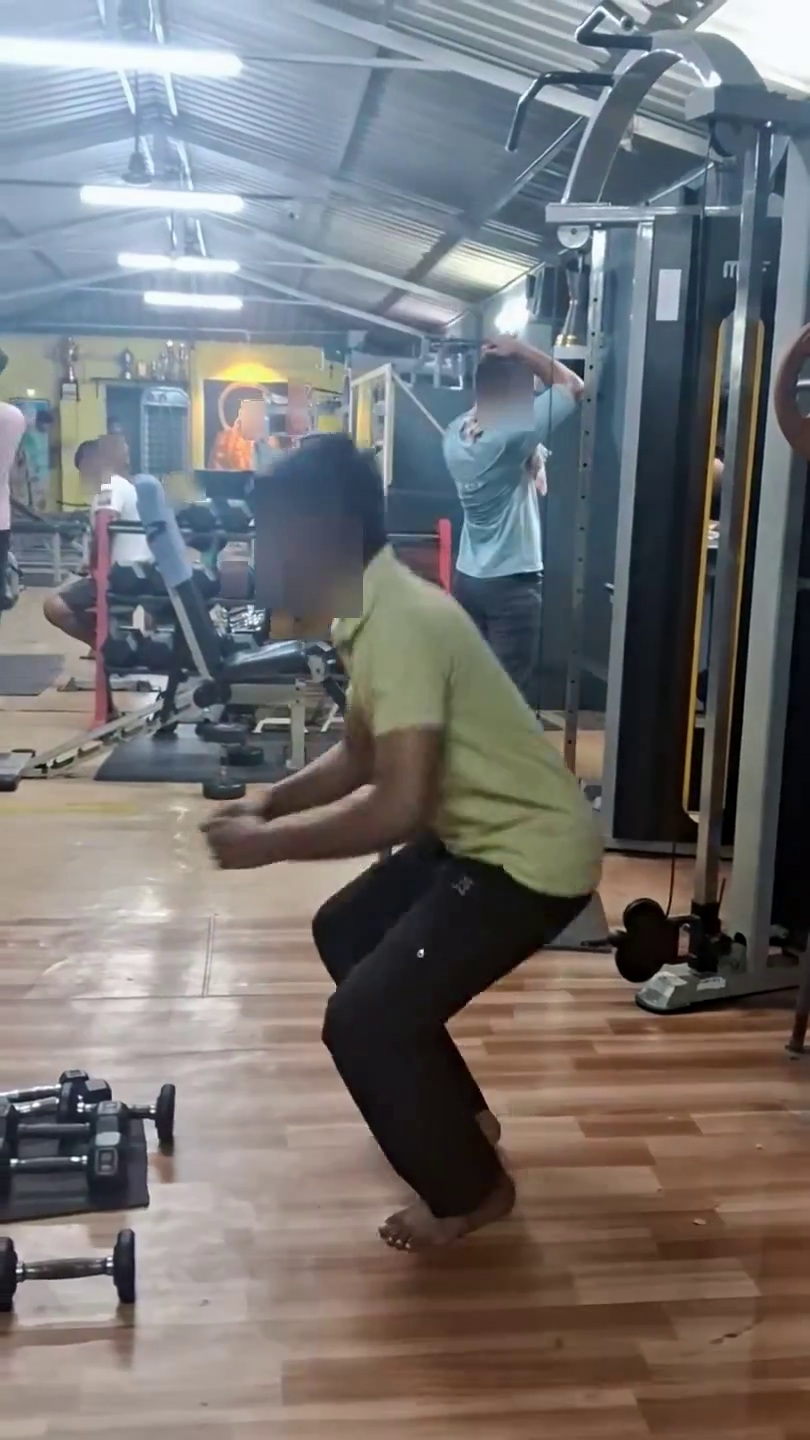squat: (148, 461, 580, 1309)
